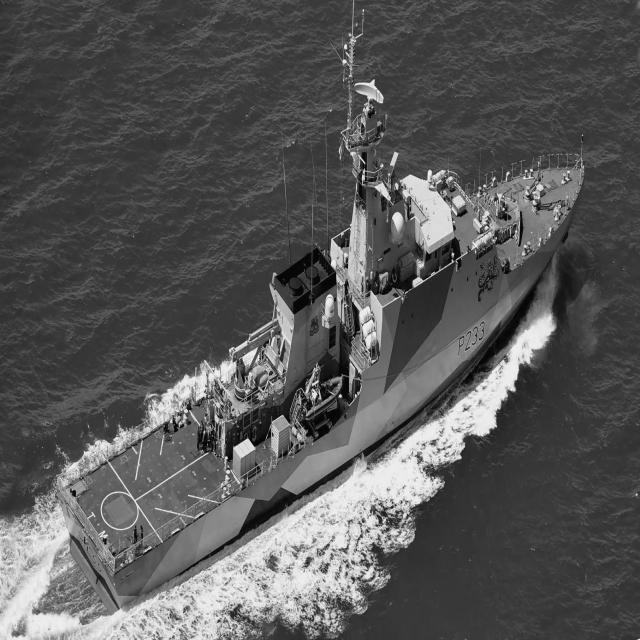Naval: (42, 3, 596, 621)
